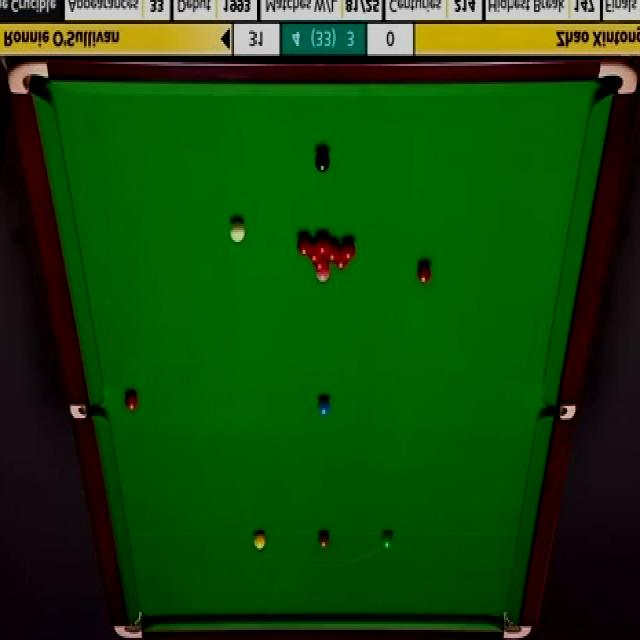pocket: (596, 57, 638, 97), (7, 60, 49, 97), (109, 606, 145, 640), (498, 608, 533, 640), (537, 405, 578, 420), (67, 405, 105, 420)
